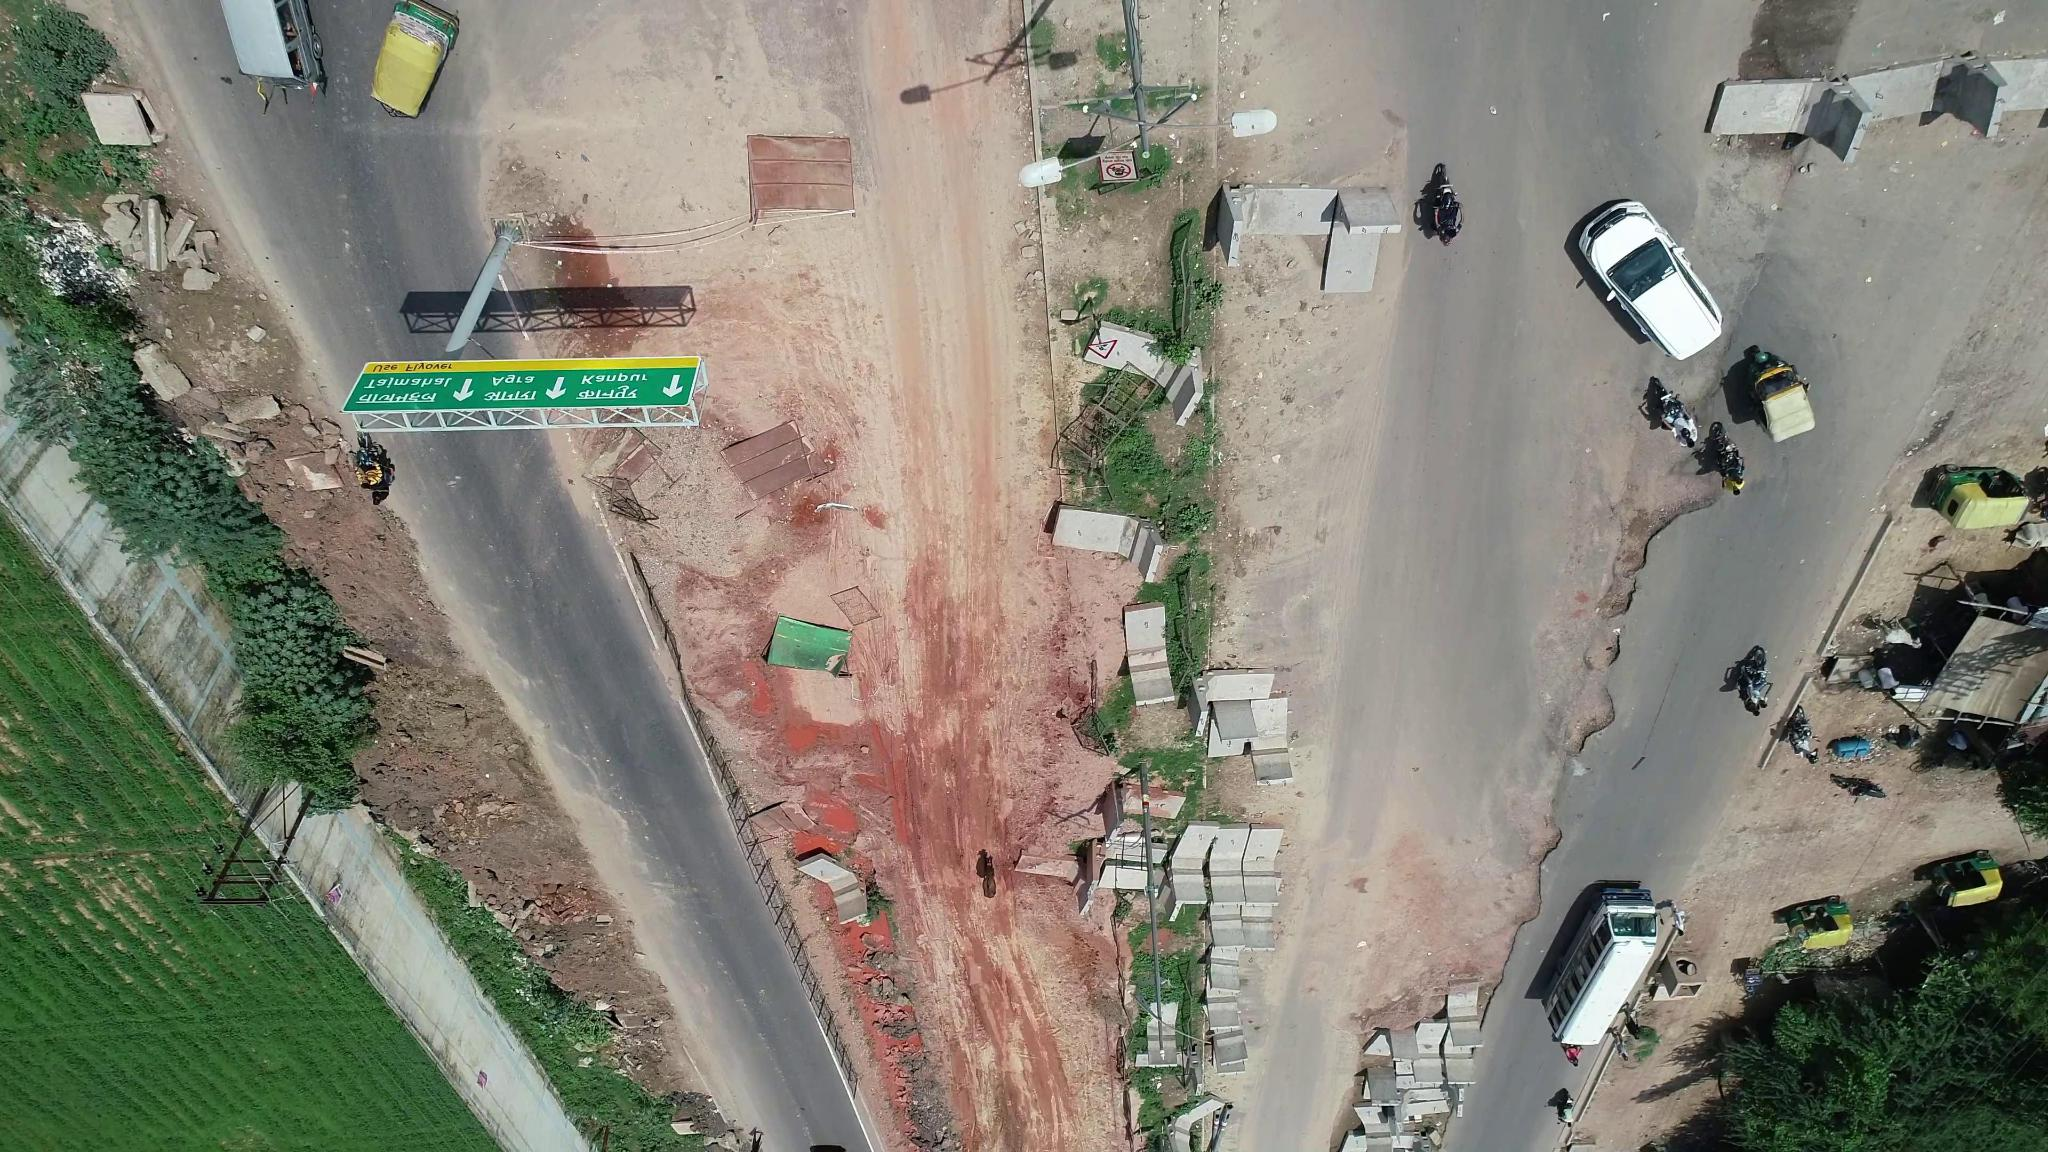Potholes: (1582, 480, 1723, 619), (1542, 674, 1620, 774), (1566, 619, 1640, 670)
